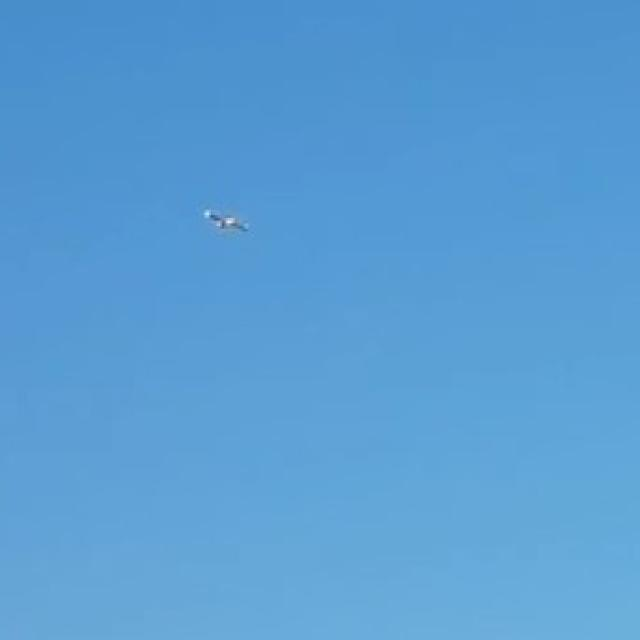iha: (203, 207, 250, 235)
